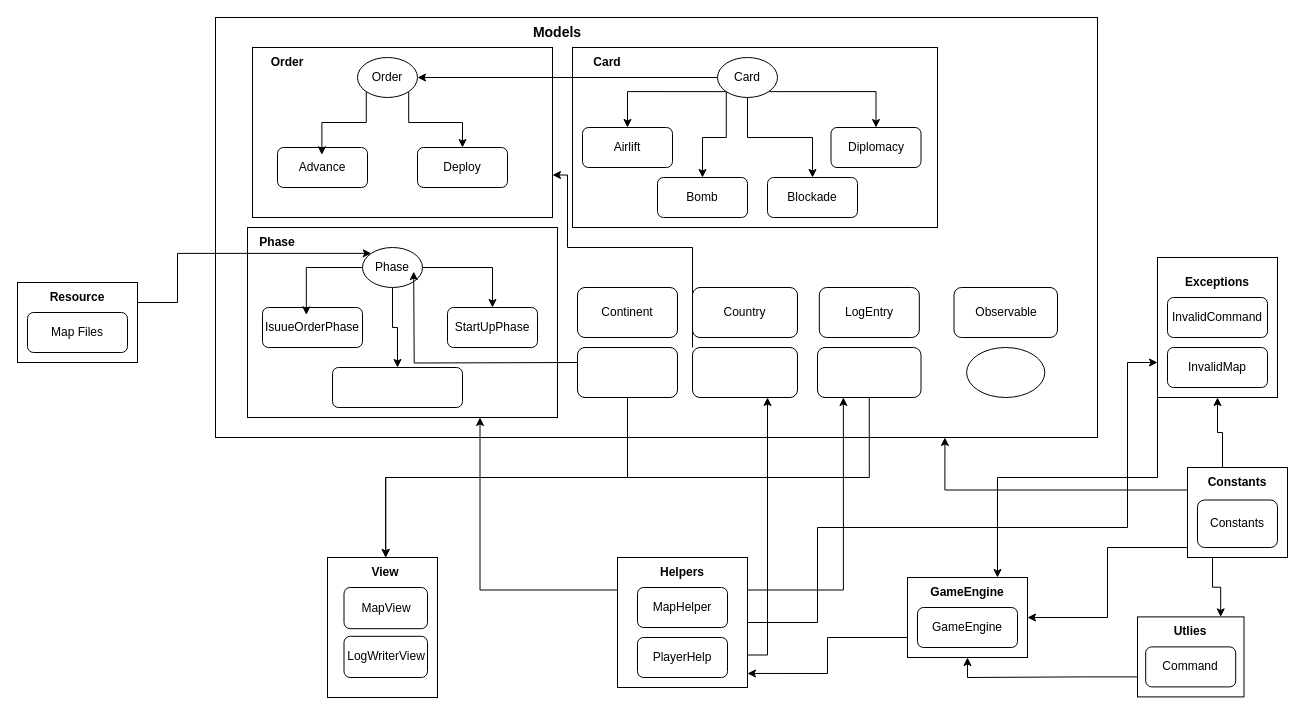
This 1305x715 diagram has some shape labels left out. Each missing label, with the box of its shape:
GameState: (576, 346, 678, 398)
Map: (816, 346, 921, 398)
Observer: (966, 346, 1045, 398)
OrderExecutionPhase: (332, 366, 462, 408)
Player: (692, 346, 798, 398)
